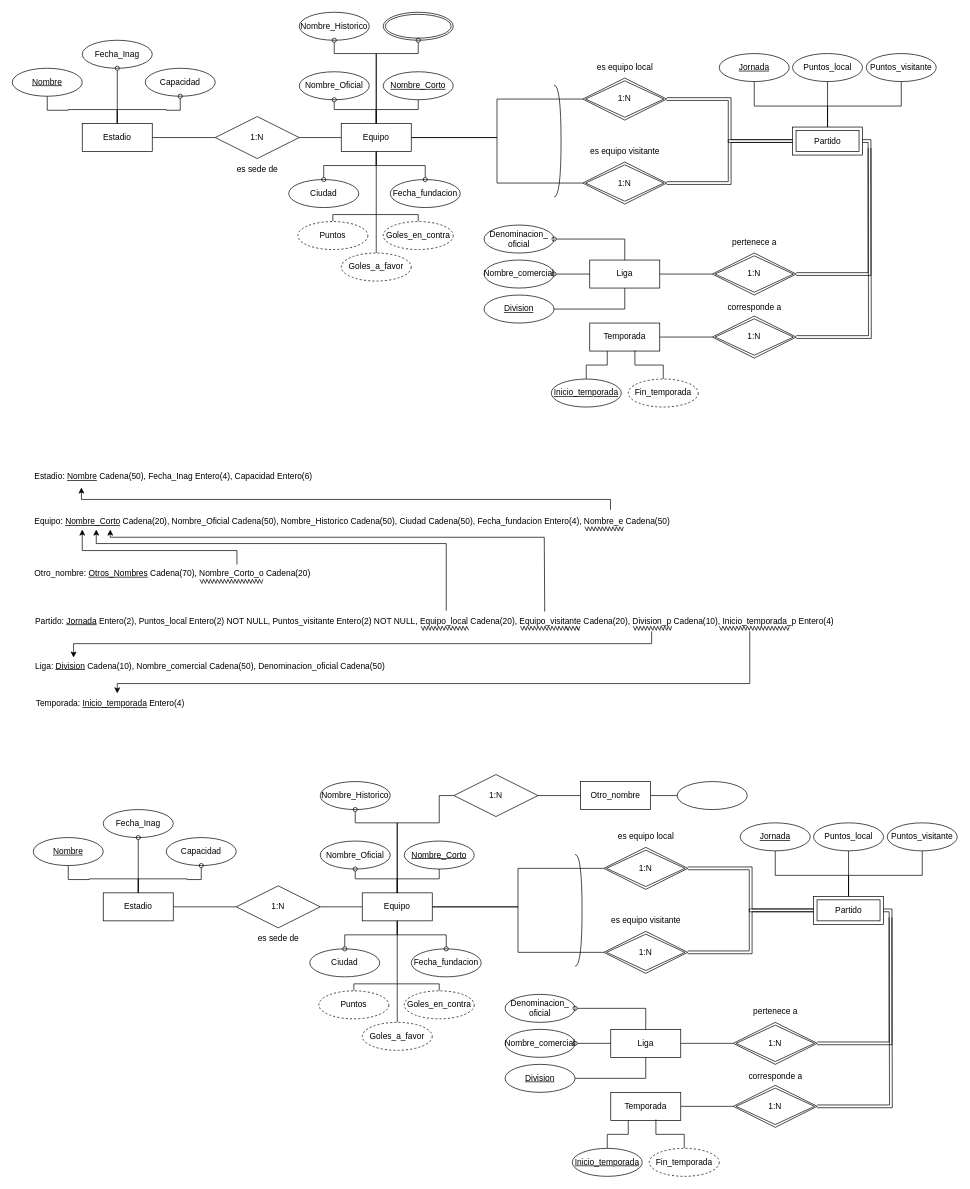
Some shapes in this 970 by 1189 pixel diagram are drawn without their labels. Here are the shapes that lost their labels. From the top down, the box of each, then its label:
(383, 12, 453, 40): Otros_Nombres
(677, 781, 747, 810): Otros Nombres
